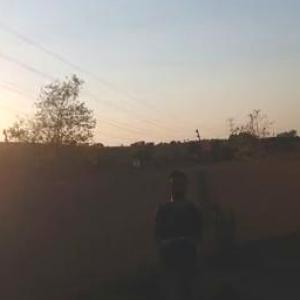follow: (144, 173, 206, 299)
